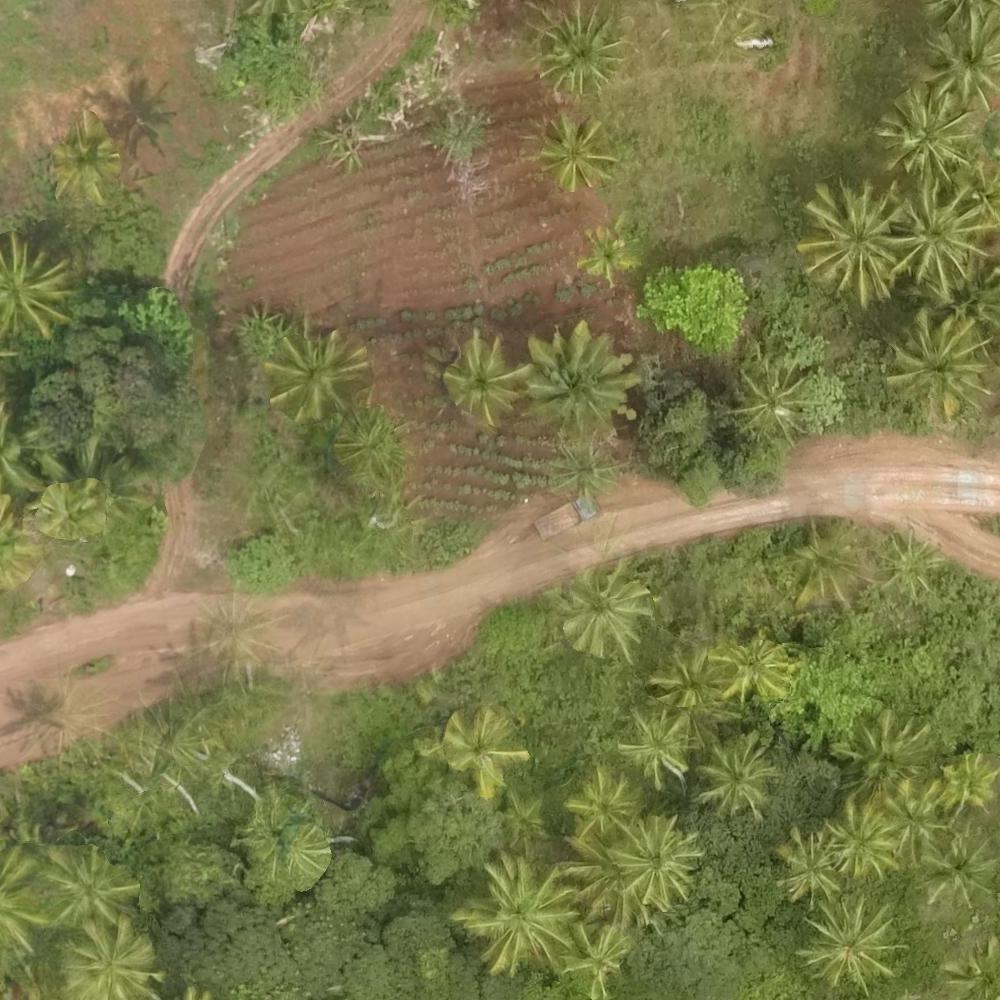Palm: (463, 857, 574, 971), (886, 306, 994, 417), (883, 184, 991, 294), (799, 185, 903, 295), (527, 325, 630, 424), (800, 900, 903, 991), (882, 90, 975, 182), (40, 846, 140, 930), (62, 918, 164, 1000), (1, 240, 78, 346), (614, 819, 702, 910), (534, 7, 626, 93), (270, 327, 363, 412), (729, 356, 819, 442), (838, 716, 930, 798), (918, 13, 1000, 104), (561, 571, 651, 651), (441, 336, 524, 416), (648, 646, 733, 721), (919, 826, 1000, 904), (445, 708, 521, 789), (826, 800, 902, 881), (701, 742, 778, 816), (618, 709, 695, 781), (538, 114, 613, 184), (50, 125, 117, 198), (567, 772, 640, 839), (776, 828, 845, 898), (722, 638, 798, 701), (565, 925, 634, 991), (937, 746, 1000, 814), (576, 222, 634, 281)
